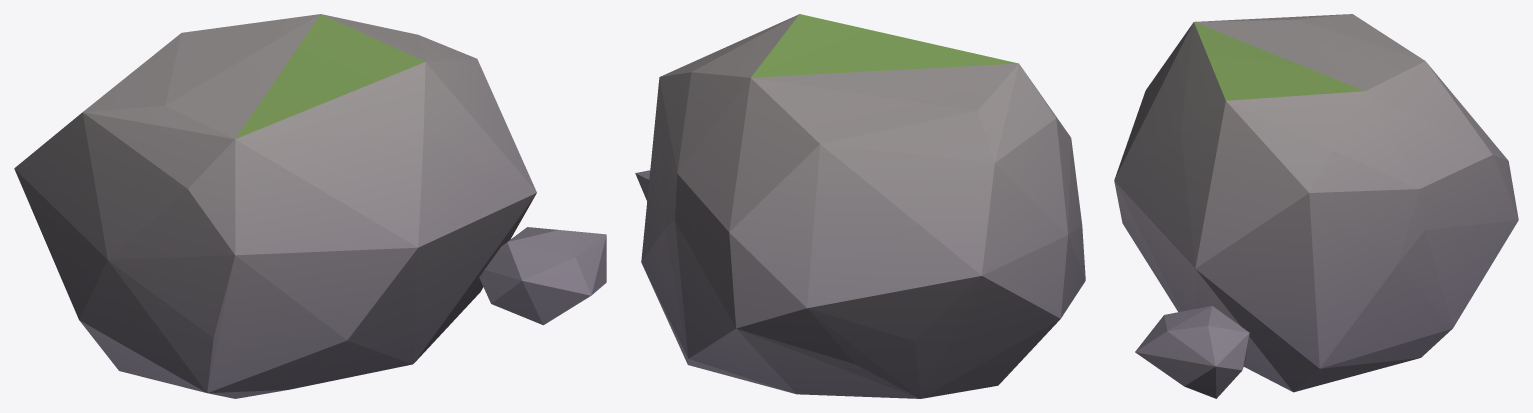
File: boulder.glb
3 views of the same model, side by side, from view 1: azimuth 30°, elevation 25°; view 2: azimuth 150°, elevation 25°; view 3: azimuth 270°, elevation 25° (orthographic). The views are drawn at different scales.
Parts seen in each view (by area): view 1: boulder; view 2: boulder; view 3: boulder.
Part boxes in pixels (<box>): boulder: <box>14,14,606,398</box>; boulder: <box>635,14,1085,398</box>; boulder: <box>1114,14,1518,398</box>.
Bounding box in the file's own units: 4.29 × 2.41 × 3.47.
